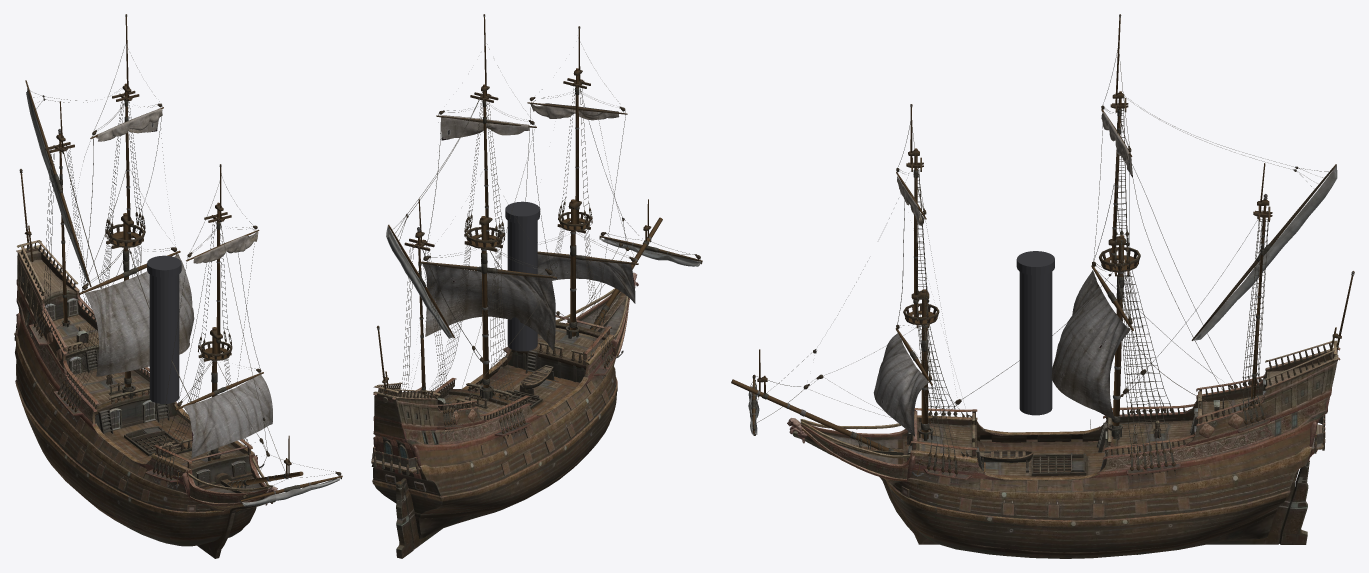
File: ship-hybrid.glb
3 renders of one model, left to right at view 1: azimuth 30°, elevation 25°; view 2: azimuth 150°, elevation 25°; view 3: azimuth 270°, elevation 25°, orthographic. The views are drawn at different scales.
Parts seen in each view (by area): view 1: dutch_ship_large_02_hull, dutch_ship_large_02_rigging, dutch_ship_large_02_sails, steam_parts; view 2: dutch_ship_large_02_hull, dutch_ship_large_02_rigging, dutch_ship_large_02_sails, steam_parts; view 3: dutch_ship_large_02_hull, dutch_ship_large_02_rigging, dutch_ship_large_02_sails, steam_parts.
Part boxes in pixels (left/top/right/bottom): dutch_ship_large_02_hull: left=14, top=240, right=277, bottom=558; dutch_ship_large_02_rigging: left=19, top=14, right=342, bottom=506; dutch_ship_large_02_sails: left=85, top=108, right=272, bottom=458; steam_parts: left=147, top=255, right=181, bottom=403; dutch_ship_large_02_hull: left=371, top=272, right=638, bottom=558; dutch_ship_large_02_rigging: left=376, top=14, right=702, bottom=445; dutch_ship_large_02_sails: left=422, top=103, right=635, bottom=350; steam_parts: left=505, top=201, right=539, bottom=351; dutch_ship_large_02_hull: left=787, top=340, right=1340, bottom=558; dutch_ship_large_02_rigging: left=731, top=14, right=1354, bottom=483; dutch_ship_large_02_sails: left=873, top=112, right=1132, bottom=436; steam_parts: left=1016, top=251, right=1054, bottom=415.
Size of the model in its own units: 8.54 by 32.08 by 34.25.
4 materials, 3 textured.
